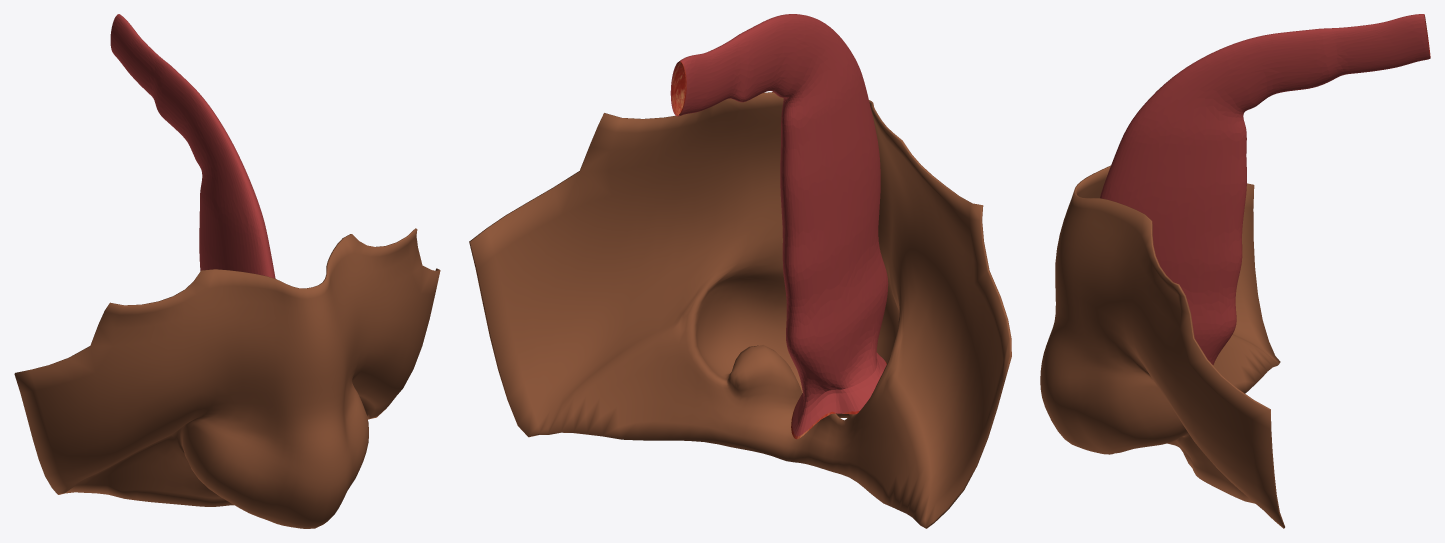
The model's file is nose.obj.
3 renders of one model, left to right at view 1: azimuth 30°, elevation 25°; view 2: azimuth 150°, elevation 25°; view 3: azimuth 270°, elevation 25°, orthographic. The views are drawn at different scales.
Visible parts, largest first — view 1: Face.001_Face.005, Circle_Circle.002; view 2: Face.001_Face.005, Circle_Circle.002; view 3: Face.001_Face.005, Circle_Circle.002.
Boxes of the visible parts, x1,y1,x2,y2 form: Face.001_Face.005: (14, 228, 440, 528); Circle_Circle.002: (110, 14, 275, 278); Face.001_Face.005: (469, 92, 1011, 528); Circle_Circle.002: (670, 14, 888, 439); Face.001_Face.005: (1040, 165, 1284, 528); Circle_Circle.002: (1100, 14, 1430, 364).
Bounding box in the file's own units: 11.53 × 10.56 × 8.66.
